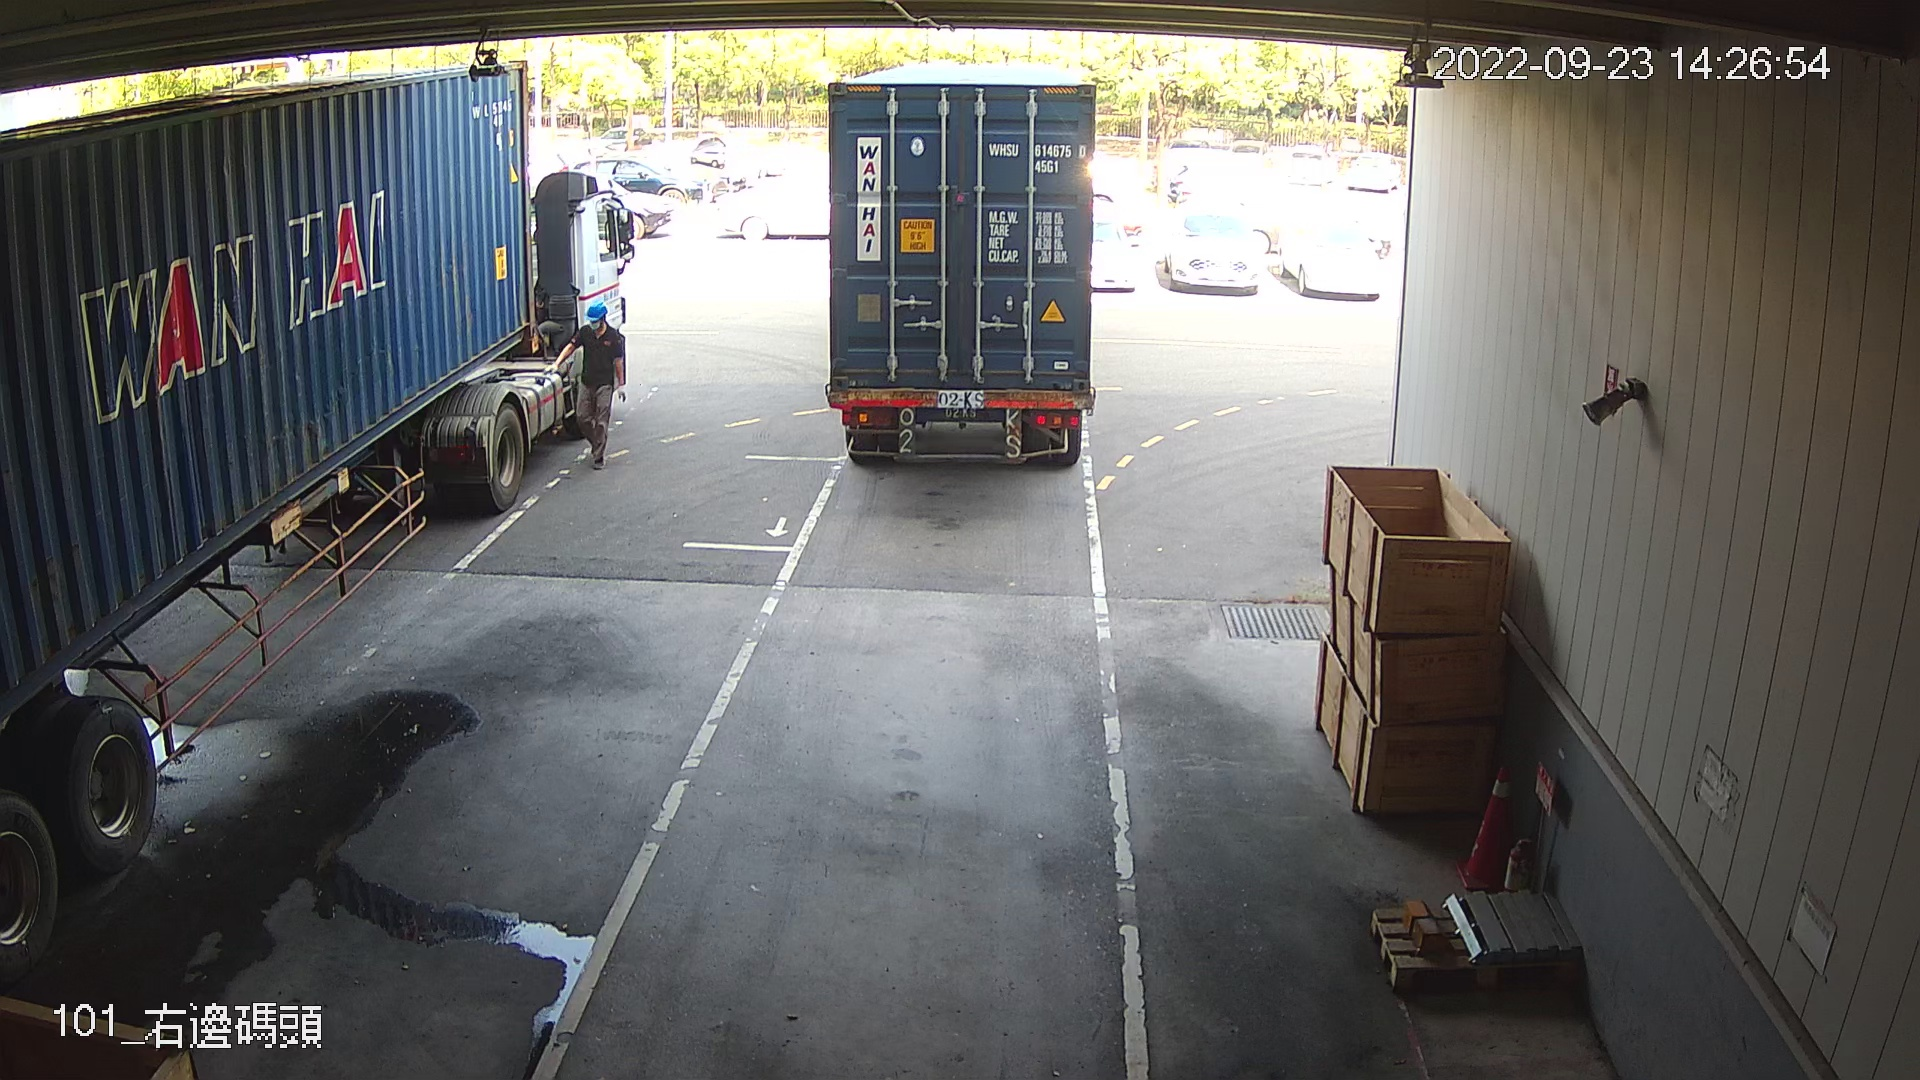container: (984, 136, 1089, 179)
